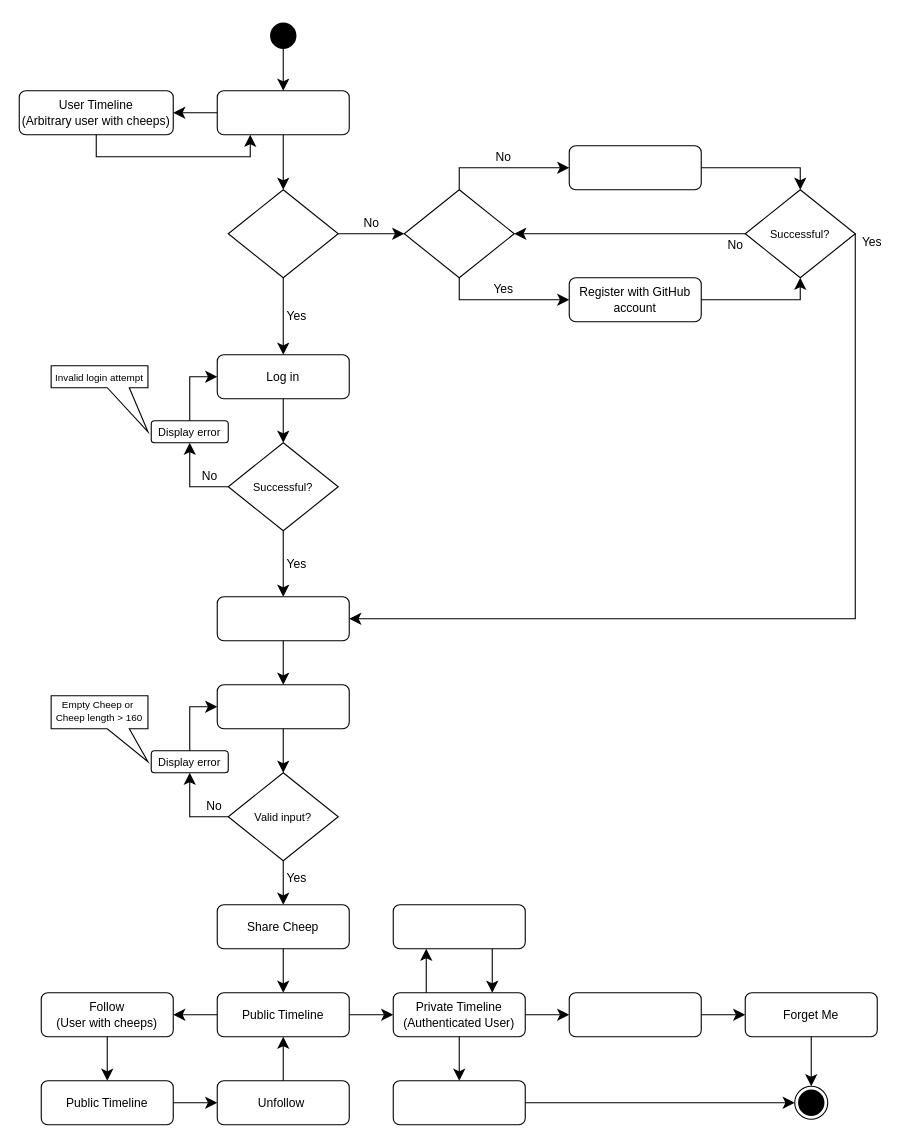
Some shapes in this 901 by 1144 pixel diagram are drawn without their labels. Here are the shapes that lost their labels. From the top down, the centre of each, then its label:
At (x=282, y=112): "Public Timeline (Non-authorized)".
At (x=634, y=167): "Register with Chirp! account".
At (x=282, y=233): "User already registered?".
At (x=458, y=233): "User wants to register with GitHub?".
At (x=282, y=618): "Public Timeline (Authenticated)".
At (x=282, y=706): "Write Cheep".
At (x=458, y=926): "Delete Cheep".
At (x=634, y=1014): "About Me".
At (x=458, y=1102): "Logout".
